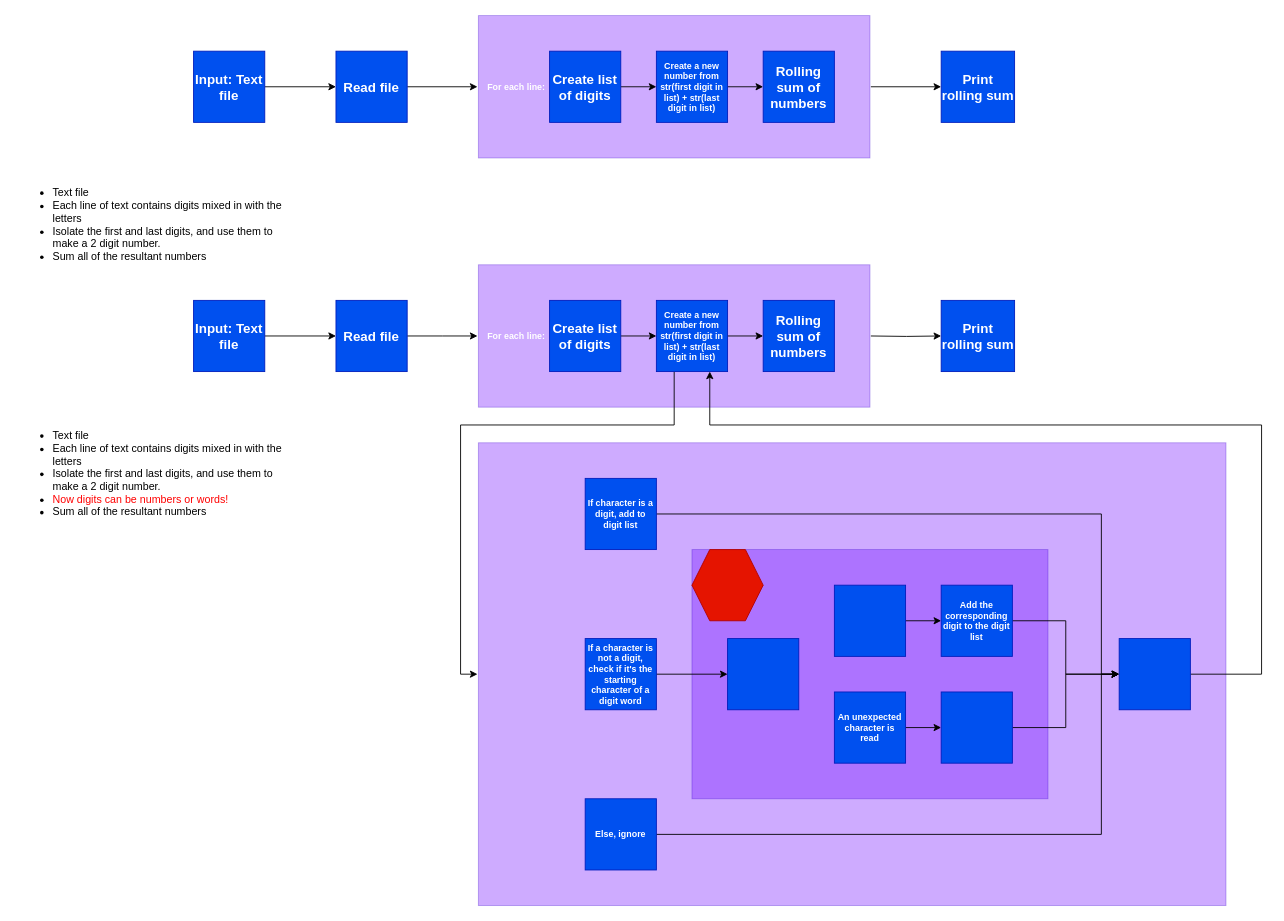
The diagram is 1284 pixels wide and 921 high, and some of its shapes have lost their labels. Each missing label, with the box of its shape:
End loop: (1118, 638, 1190, 710)
For each character:: (477, 442, 1226, 906)
Ignore: (940, 691, 1012, 763)
Loop through the next characters until:: (727, 638, 799, 710)
Note: check that the remaining string is long enough: (691, 549, 763, 621)
The final expected character of the digit word is reached: (833, 584, 906, 656)
